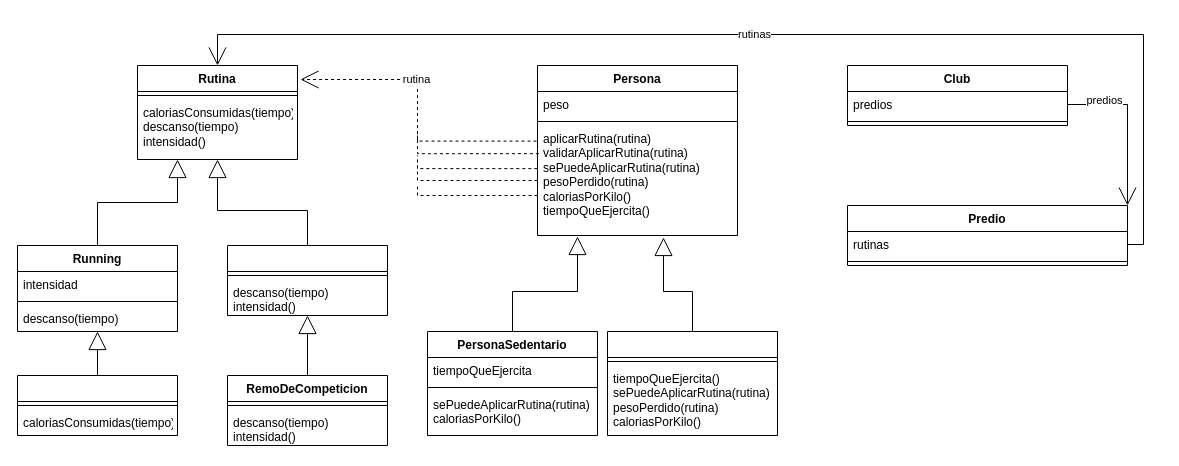
The diagram is 1179 pixels wide and 466 high, and some of its shapes have lost their labels. The box of each missing label's shape, as (x1, y1, x2, y2) in pixels:
Maraton: (16, 374, 178, 436)
PersonaAtleta: (606, 330, 778, 436)
Remo: (226, 244, 388, 316)
